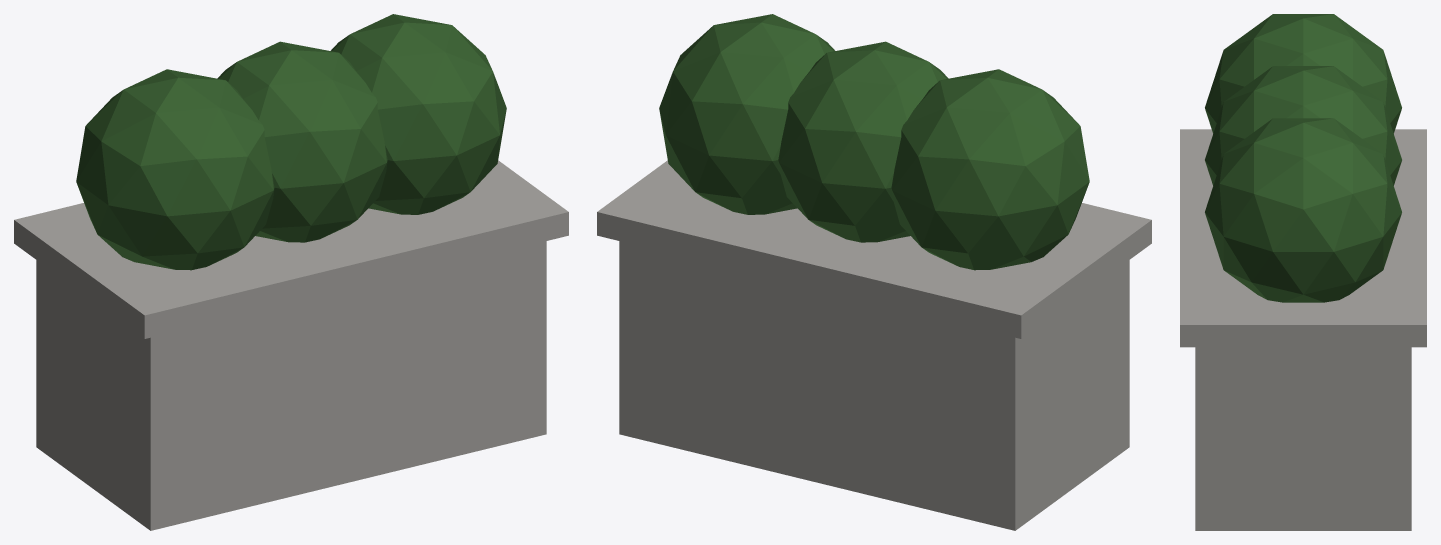
Rendered from planter.glb.
3 views of the same model, side by side, from view 1: azimuth 30°, elevation 25°; view 2: azimuth 150°, elevation 25°; view 3: azimuth 270°, elevation 25° (orthographic). The views are drawn at different scales.
Visible parts, largest first — view 1: Cube, Cube.001, Icosphere, Icosphere.002, Icosphere.001; view 2: Cube, Cube.001, Icosphere, Icosphere.002, Icosphere.001; view 3: Cube, Icosphere.002, Cube.001, Icosphere.001, Icosphere.
Part boxes in pixels (x1=…): Cube: x1=36, y1=241, x2=546, y2=530; Cube.001: x1=14, y1=160, x2=568, y2=338; Icosphere: x1=76, y1=69, x2=274, y2=270; Icosphere.002: x1=331, y1=14, x2=506, y2=214; Icosphere.001: x1=217, y1=41, x2=387, y2=242; Cube: x1=619, y1=241, x2=1129, y2=530; Cube.001: x1=597, y1=160, x2=1151, y2=338; Icosphere: x1=891, y1=69, x2=1089, y2=270; Icosphere.002: x1=659, y1=14, x2=834, y2=214; Icosphere.001: x1=778, y1=41, x2=948, y2=242; Cube: x1=1195, y1=347, x2=1411, y2=530; Icosphere.002: x1=1205, y1=118, x2=1401, y2=302; Cube.001: x1=1180, y1=129, x2=1426, y2=347; Icosphere.001: x1=1205, y1=66, x2=1401, y2=185; Icosphere: x1=1205, y1=14, x2=1401, y2=133.
Size of what is drawn, in the model's own units: 1.5 by 1.32 by 0.8.
